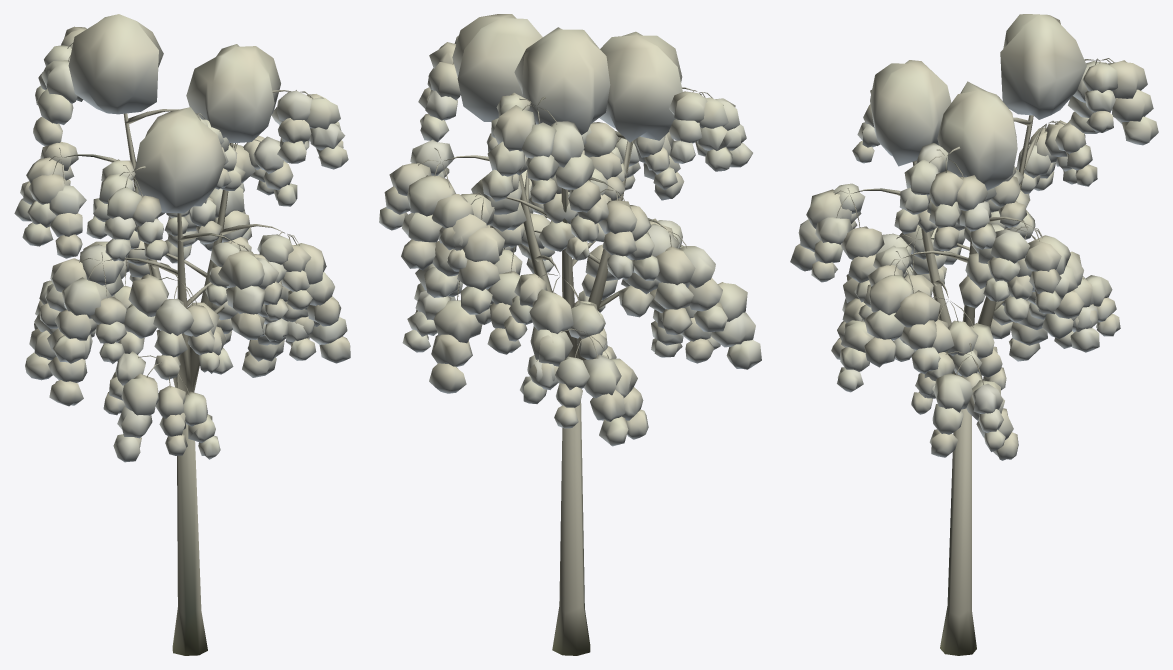
The picture shows the model from 3 angles, left to right: view 1: azimuth 30°, elevation 25°; view 2: azimuth 150°, elevation 25°; view 3: azimuth 270°, elevation 25°; orthographic projection. The views are drawn at different scales.
Parts seen in each view (by area): view 1: crown, trunk; view 2: crown, trunk; view 3: crown, trunk.
Part boxes in pixels (<box>): crown: <box>14,14,350,462</box>; trunk: <box>49,43,313,655</box>; crown: <box>379,14,761,446</box>; trunk: <box>418,62,712,655</box>; crown: <box>790,14,1158,460</box>; trunk: <box>834,58,1114,655</box>.
Size of the model in its own units: 7.56 by 15.13 by 8.16.
